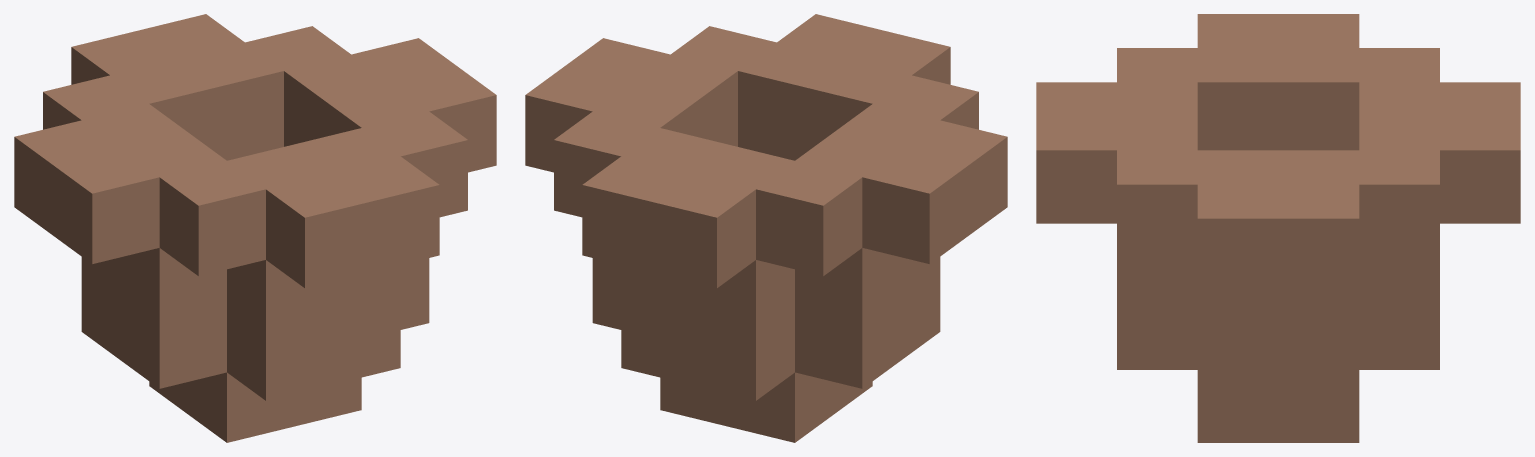
Rendered from pot_2_v1.fbx.
The picture shows the model from 3 angles, left to right: view 1: azimuth 30°, elevation 25°; view 2: azimuth 150°, elevation 25°; view 3: azimuth 270°, elevation 25°; orthographic projection. The views are drawn at different scales.
Parts seen in each view (by area): view 1: pot_2; view 2: pot_2; view 3: pot_2.
Part boxes in pixels (x1,y1,x2,y2): pot_2: [14, 14, 496, 442]; pot_2: [525, 14, 1007, 442]; pot_2: [1036, 14, 1520, 442].
Bounding box in the file's own units: 6 × 4 × 6.
